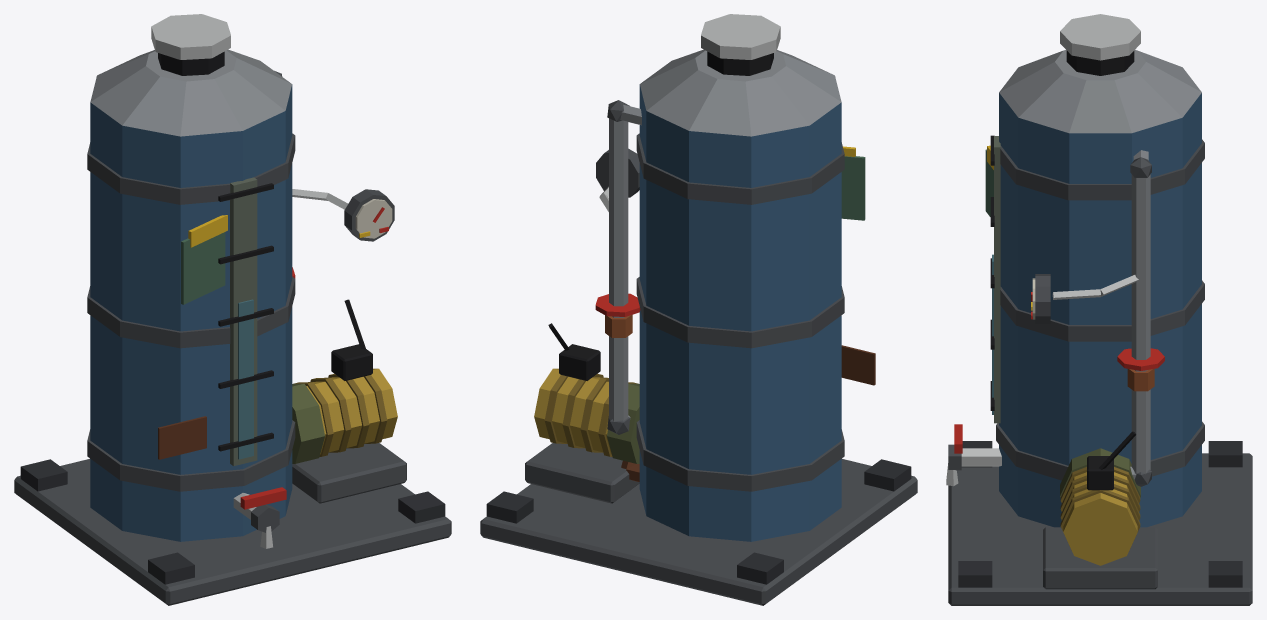
The model's file is prop_hydro_tank.fbx.
The picture shows the model from 3 angles, left to right: view 1: azimuth 30°, elevation 25°; view 2: azimuth 150°, elevation 25°; view 3: azimuth 270°, elevation 25°; orthographic projection.
Parts seen in each view (by area): view 1: prop_hydro_tank; view 2: prop_hydro_tank; view 3: prop_hydro_tank.
Part boxes in pixels (<box>): prop_hydro_tank: <box>14,14,451,605</box>; prop_hydro_tank: <box>480,14,917,605</box>; prop_hydro_tank: <box>946,14,1252,605</box>.
Bounding box in the file's own units: 0.97 × 1.59 × 0.9062.
